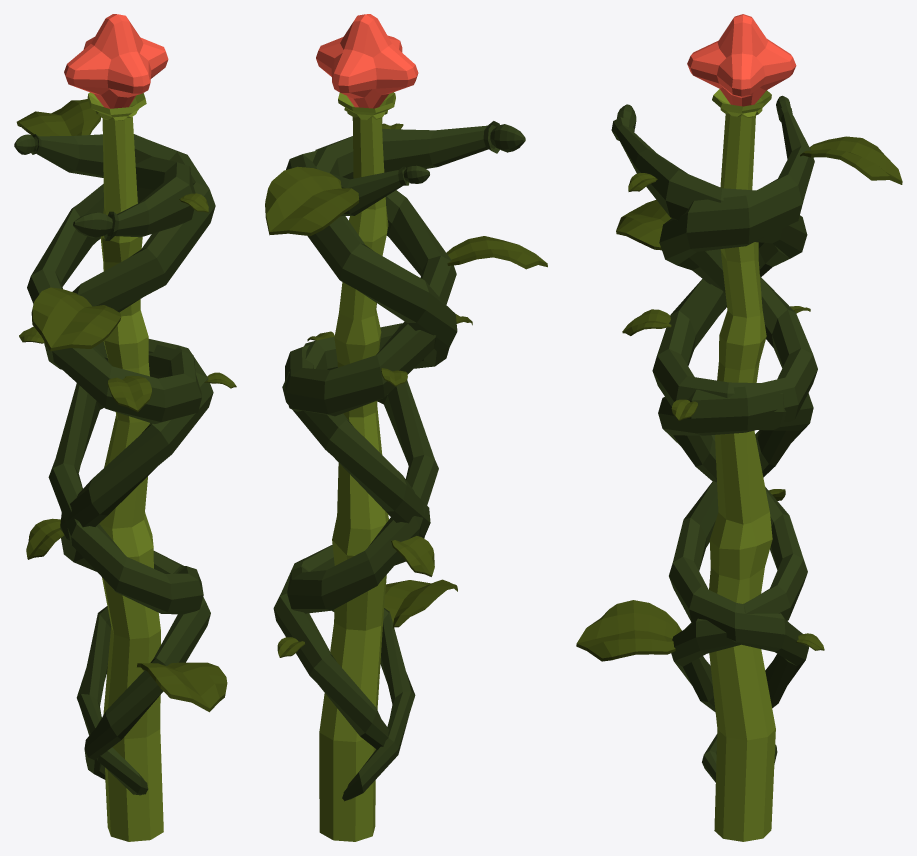
The model's file is HealthPlant.fbx.
3 views of the same model, side by side, from view 1: azimuth 30°, elevation 25°; view 2: azimuth 150°, elevation 25°; view 3: azimuth 270°, elevation 25° (orthographic).
Parts seen in each view (by area): view 1: Torus.006, Torus.002, ResourceFlower, Resource, Leaf2.001, Leaf2.008, Leaf2.004, Leaf2, Leaf2.006; view 2: Torus.006, Torus.002, ResourceFlower, Resource, Leaf2.004, Leaf2.008, Leaf2.001, Leaf2.006; view 3: ResourceFlower, Torus.002, Torus.006, Resource, Leaf2.008, Leaf2.004, Leaf2.001, Leaf2.
Boxes of the visible parts, left/top/right/bottom form: Torus.006: left=27, top=156, right=203, bottom=795; Torus.002: left=14, top=134, right=215, bottom=779; ResourceFlower: left=87, top=92, right=163, bottom=841; Resource: left=64, top=14, right=168, bottom=108; Leaf2.001: left=31, top=287, right=121, bottom=351; Leaf2.008: left=137, top=662, right=227, bottom=712; Leaf2.004: left=16, top=99, right=100, bottom=136; Leaf2: left=107, top=375, right=151, bottom=412; Leaf2.006: left=26, top=518, right=64, bottom=559; Torus.006: left=273, top=121, right=525, bottom=749; Torus.002: left=285, top=150, right=456, bottom=801; ResourceFlower: left=319, top=92, right=395, bottom=841; Resource: left=316, top=14, right=418, bottom=108; Leaf2.004: left=265, top=166, right=359, bottom=235; Leaf2.008: left=384, top=579, right=457, bottom=628; Leaf2.001: left=446, top=236, right=547, bottom=269; Leaf2.006: left=391, top=536, right=434, bottom=576; ResourceFlower: left=709, top=89, right=775, bottom=841; Torus.002: left=658, top=95, right=817, bottom=764; Torus.006: left=611, top=104, right=813, bottom=782; Resource: left=687, top=14, right=796, bottom=106; Leaf2.008: left=576, top=600, right=681, bottom=661; Leaf2.004: left=800, top=136, right=902, bottom=184; Leaf2.001: left=616, top=199, right=671, bottom=250; Leaf2: left=622, top=309, right=671, bottom=335.
Size of the model in its own units: 44.72 by 166 by 60.65.
